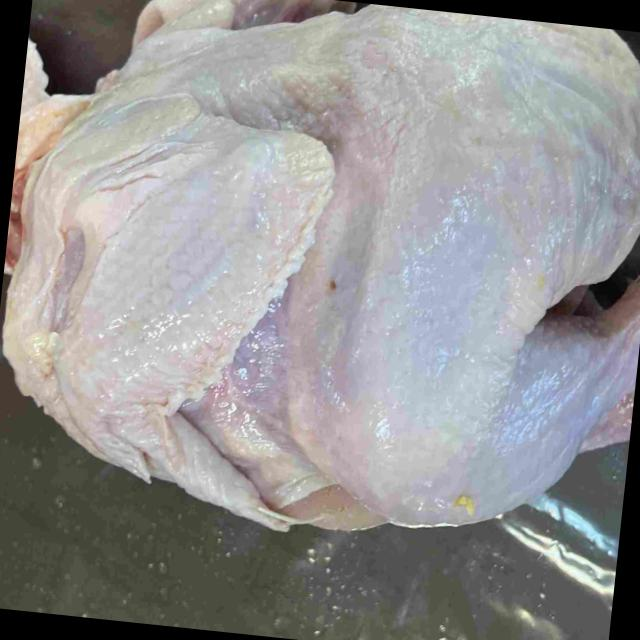back: (146, 2, 640, 274)
leg: (288, 165, 640, 530)
wing: (51, 103, 331, 532), (136, 0, 342, 44)
